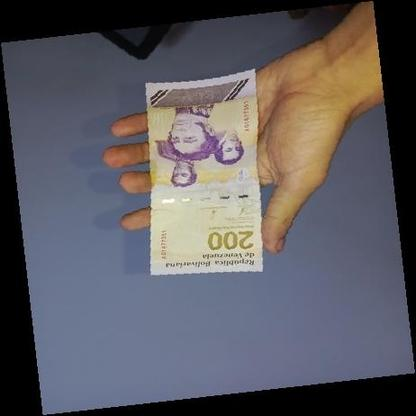two_hundred-front-vef: (143, 67, 264, 276)
